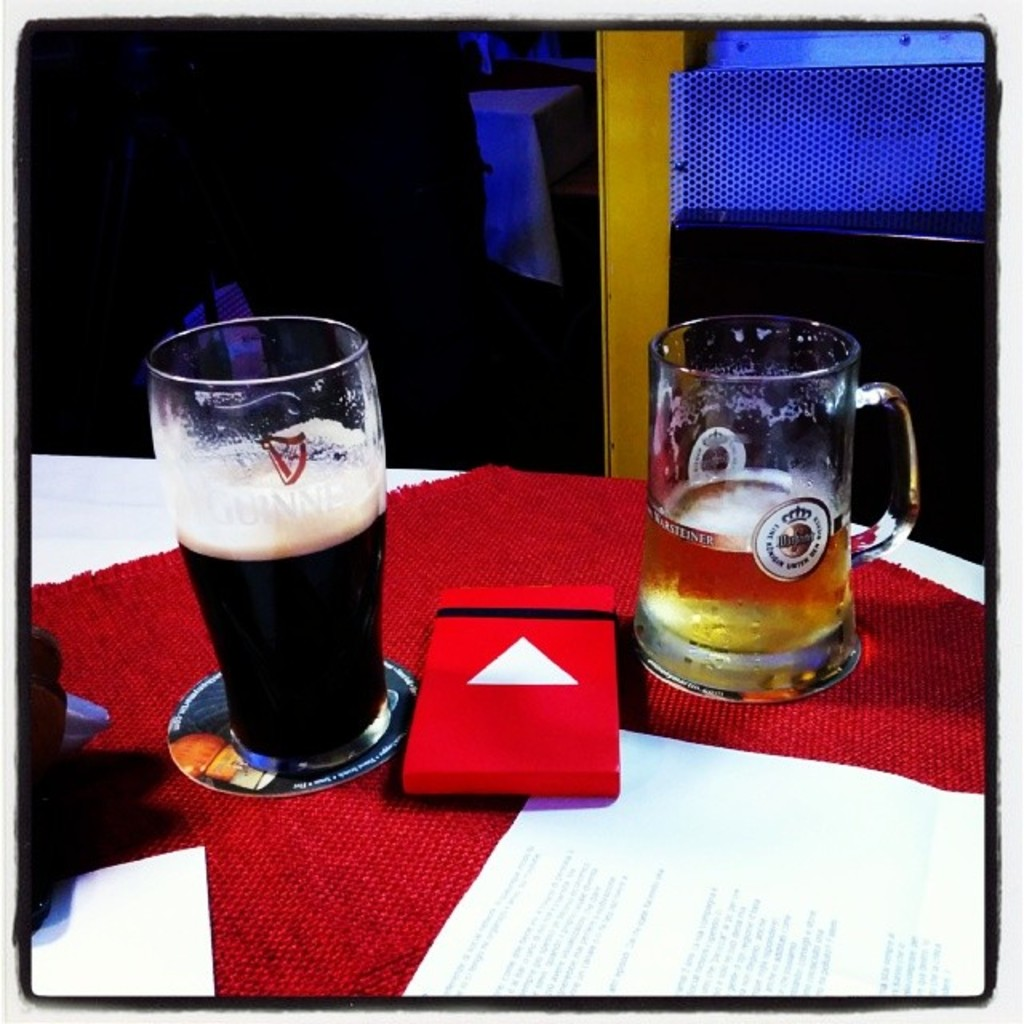Beer: (644, 464, 856, 657)
